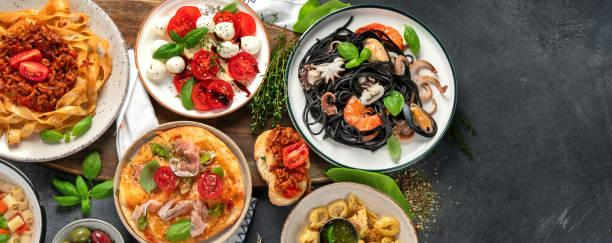Braised Crucian Carp: (283, 3, 455, 176), (2, 0, 130, 163), (114, 120, 251, 242), (134, 0, 268, 119)
